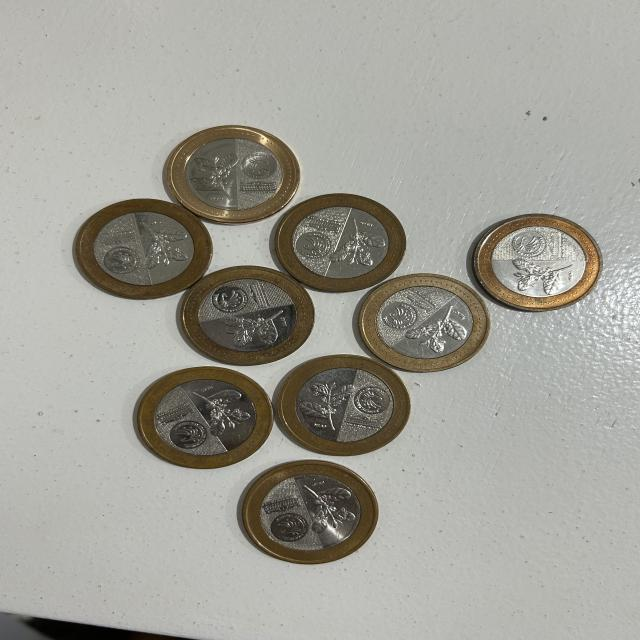20_New_Back: (300, 478, 366, 532), (510, 257, 576, 300)
